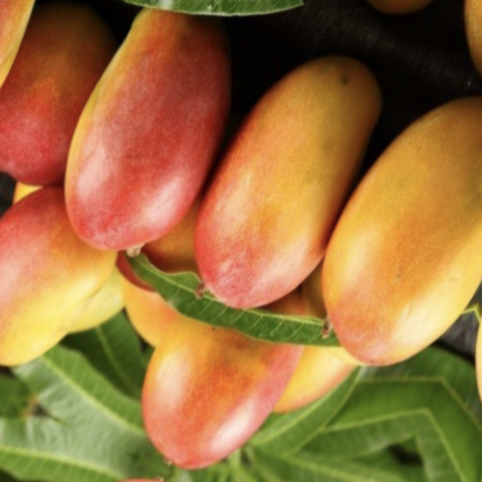mango: (9, 0, 290, 308), (155, 16, 413, 331), (270, 64, 482, 418), (95, 241, 336, 482)
